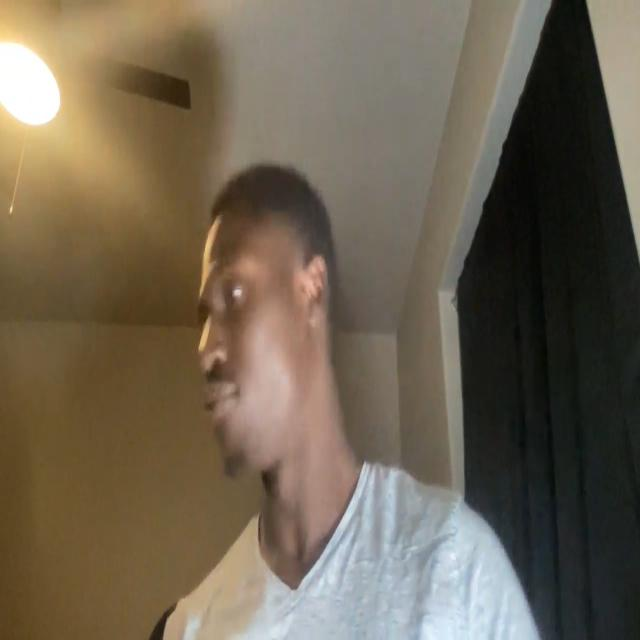face: (197, 172, 330, 484)
